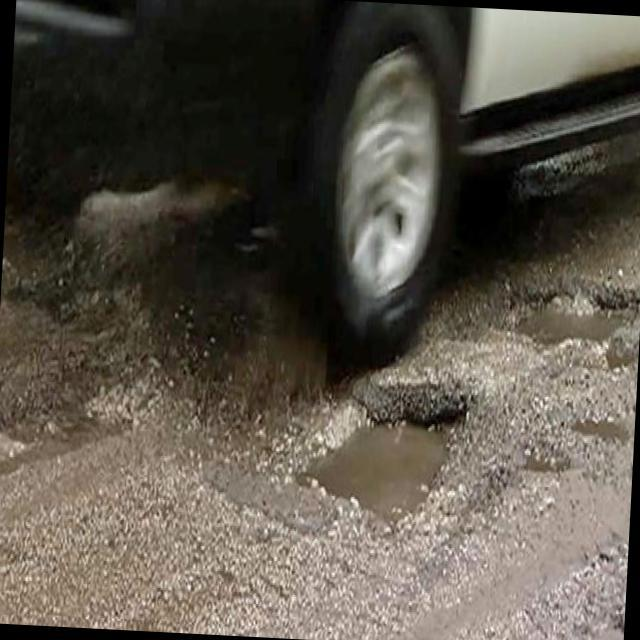Pothole: (270, 360, 462, 572), (491, 278, 640, 355)
